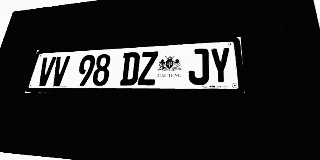8: (91, 53, 112, 86)
9: (75, 54, 96, 86)
D: (120, 52, 140, 85)
J: (188, 48, 209, 85)
V: (50, 56, 70, 86), (36, 57, 56, 86)
Y: (209, 47, 232, 85)
Z: (138, 51, 158, 85)
